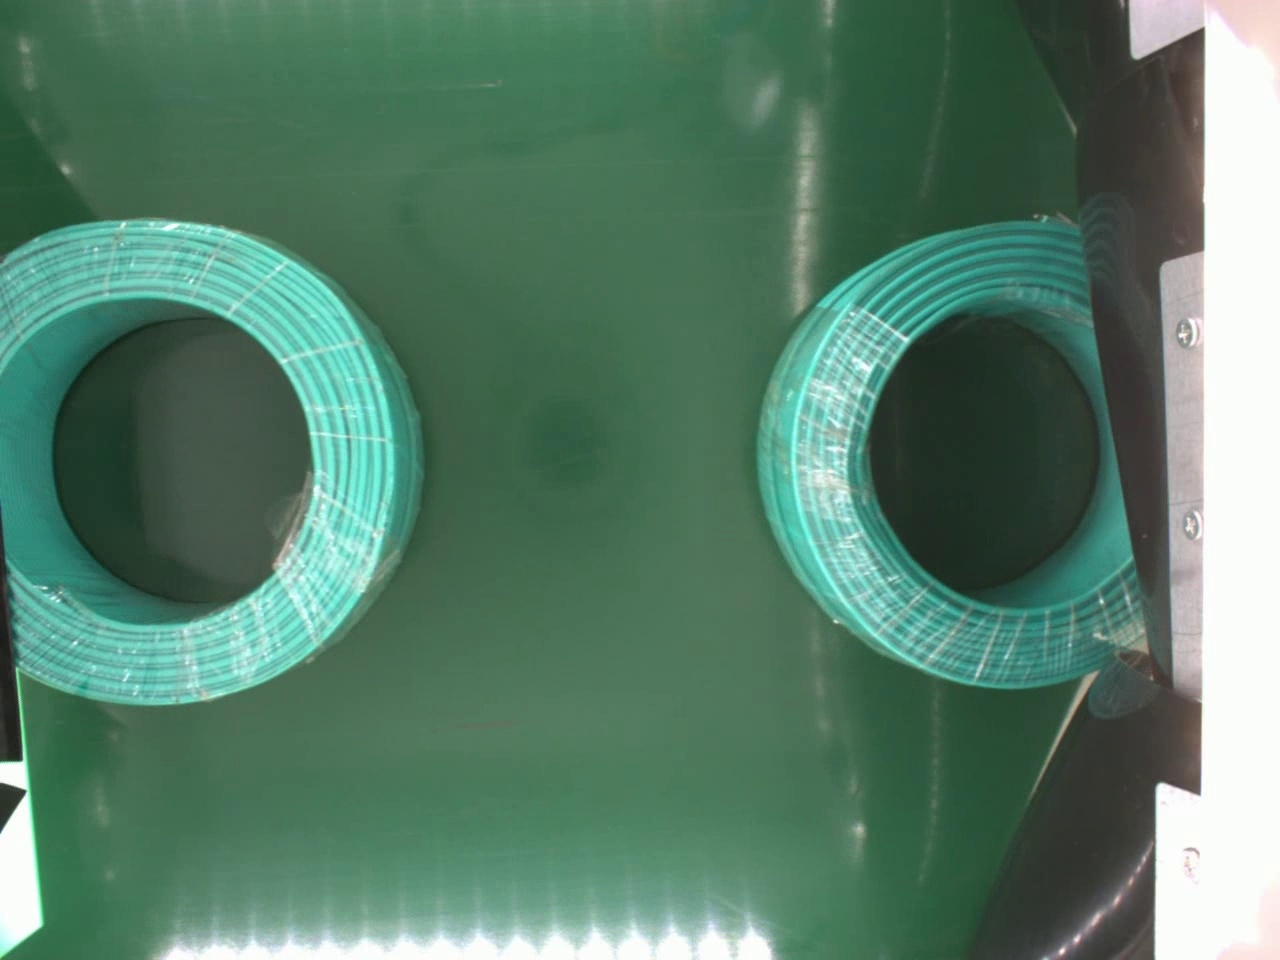green: (0, 216, 427, 710), (751, 210, 1143, 690)
